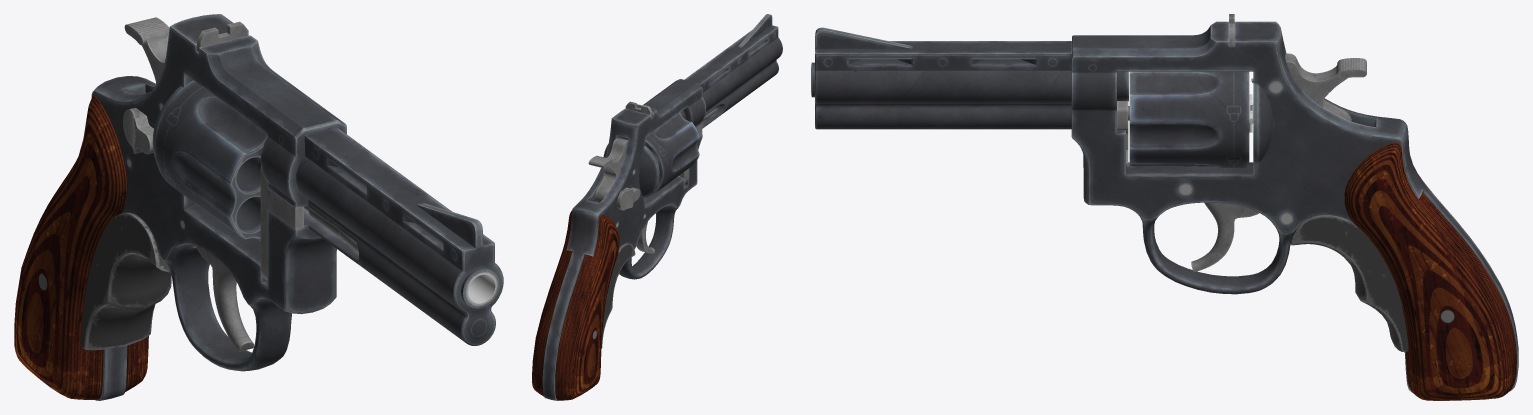
The model's file is revolver2.fbx.
The picture shows the model from 3 angles, left to right: view 1: azimuth 30°, elevation 25°; view 2: azimuth 150°, elevation 25°; view 3: azimuth 270°, elevation 25°; orthographic projection. The views are drawn at different scales.
Visible parts, largest first — view 1: rev_anim_obj:tumbler_LP002; view 2: rev_anim_obj:tumbler_LP002; view 3: rev_anim_obj:tumbler_LP002.
Part boxes in pixels (box(x1,y1,x2,y2)): rev_anim_obj:tumbler_LP002: box(14, 14, 503, 400); rev_anim_obj:tumbler_LP002: box(532, 14, 782, 400); rev_anim_obj:tumbler_LP002: box(811, 14, 1518, 400).
Bounding box in the file's own units: 3.82 × 14.36 × 24.86.
1 material, 1 textured.
